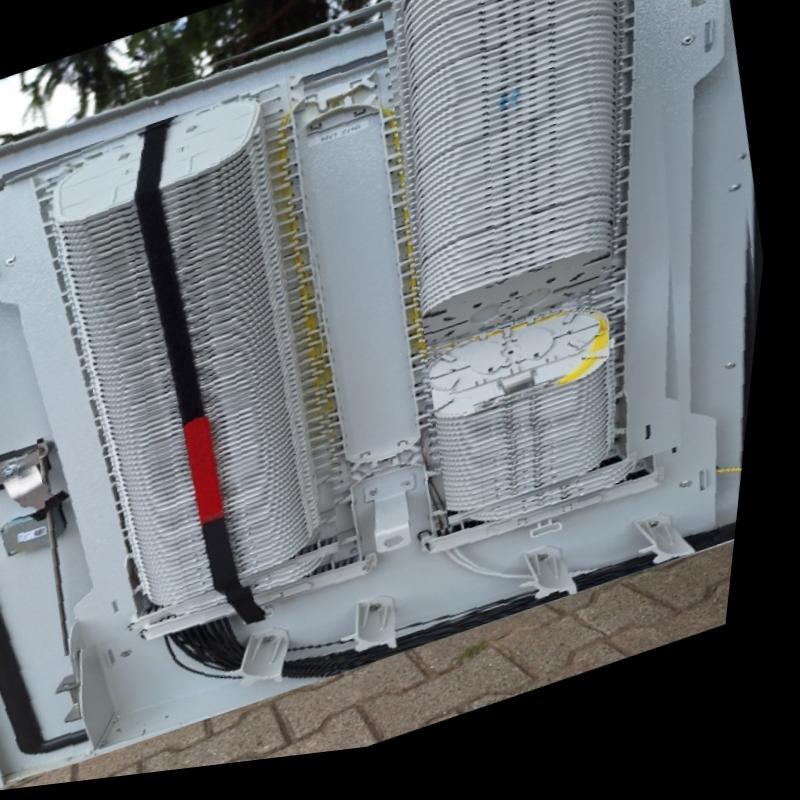NT-Gehause: (0, 0, 768, 783)
Spleiskassetten: (8, 79, 356, 615), (380, 0, 648, 534)
